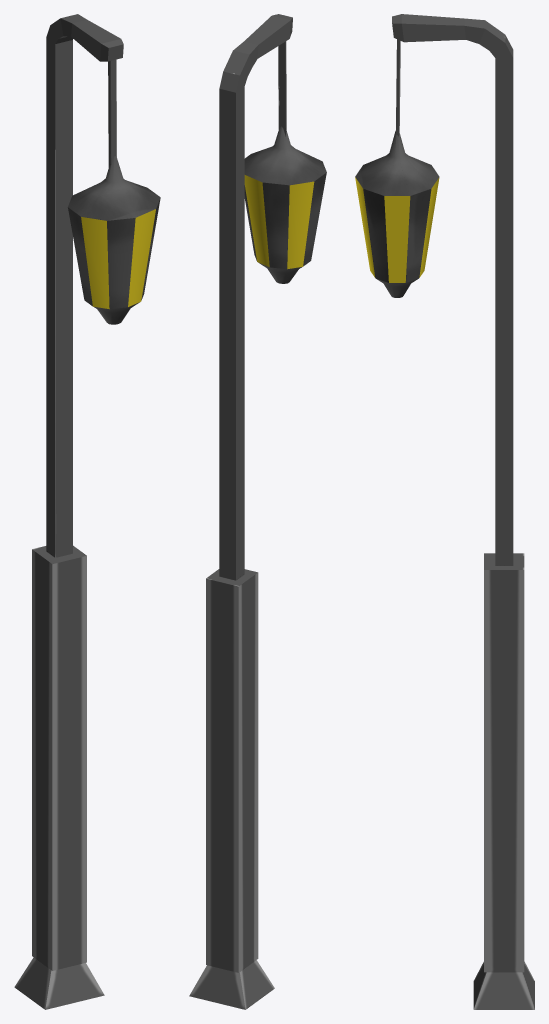
The model's file is Lamp.glb.
3 renders of one model, left to right at view 1: azimuth 30°, elevation 25°; view 2: azimuth 150°, elevation 25°; view 3: azimuth 270°, elevation 25°, orthographic. The views are drawn at different scales.
Parts seen in each view (by area): view 1: Cube, Cylinder; view 2: Cube, Cylinder; view 3: Cube, Cylinder.
Boxes of the visible parts, box(x1,y1,x2,y2) form: Cube: box(14, 14, 123, 1009); Cylinder: box(68, 156, 160, 324); Cube: box(189, 14, 292, 1009); Cylinder: box(244, 126, 326, 283); Cube: box(392, 14, 534, 1009); Cylinder: box(355, 130, 439, 297).
Bounding box in the file's own units: 0.3055 × 3.62 × 0.604.
Materials: 3 (2 with a texture image).
